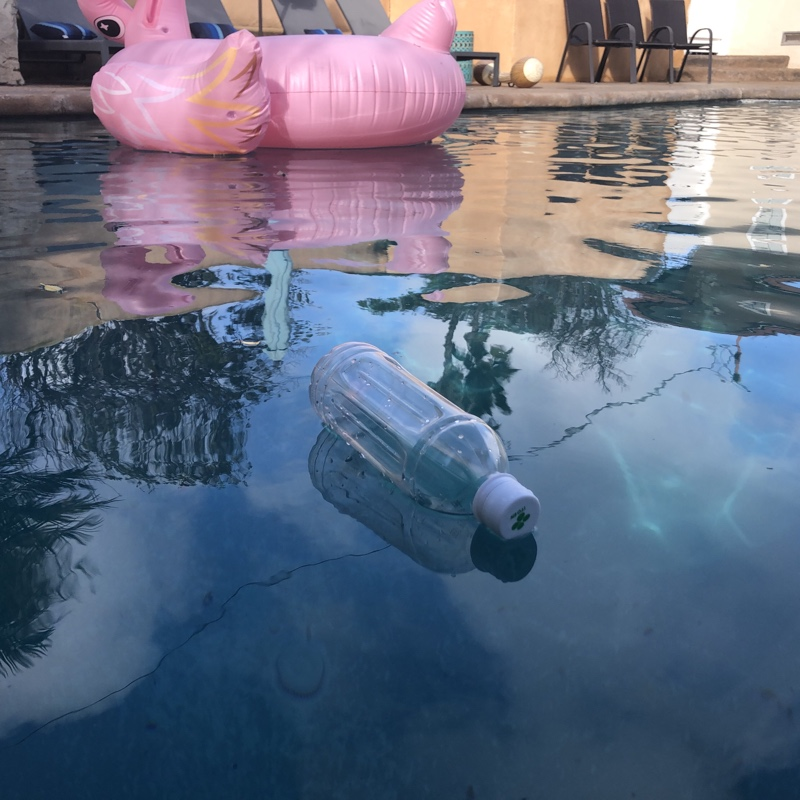Plastic Bottle: (304, 338, 545, 547)
